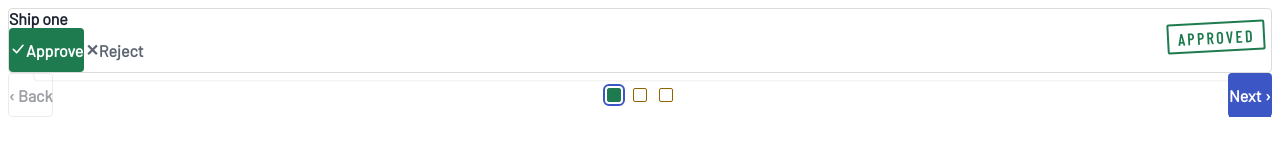
it: FocusDeck advance cue › exempts a verdict re-decide and re-arms from the new verdict
Press the mouse on the radio button labelled "✕ Reject" at (115, 50), box 84,28 -> 145,72
Wait 450 ms
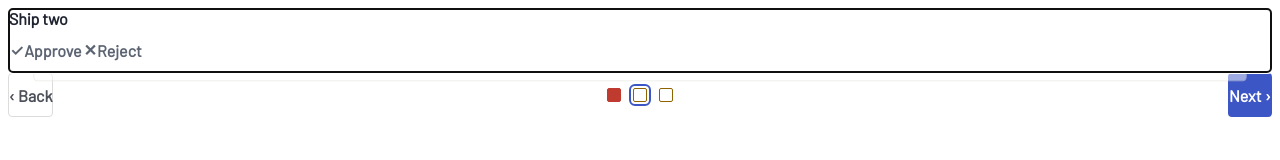
Check: the button with class "advancing" is shown, box 1228,73 -> 1272,117
Check: the heading with class "focus-question" reads "Ship two", box 9,9 -> 68,28
